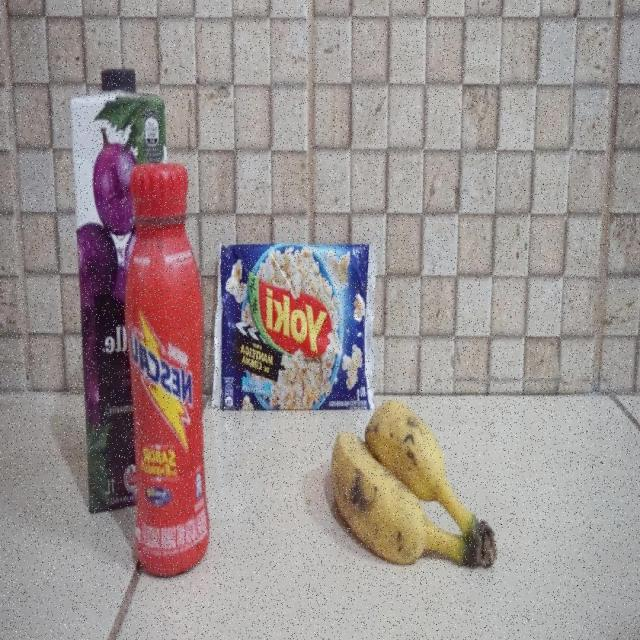Banana: (329, 399, 498, 572)
ChocolateMilk: (125, 163, 211, 582)
Popcorn: (210, 240, 378, 413)
